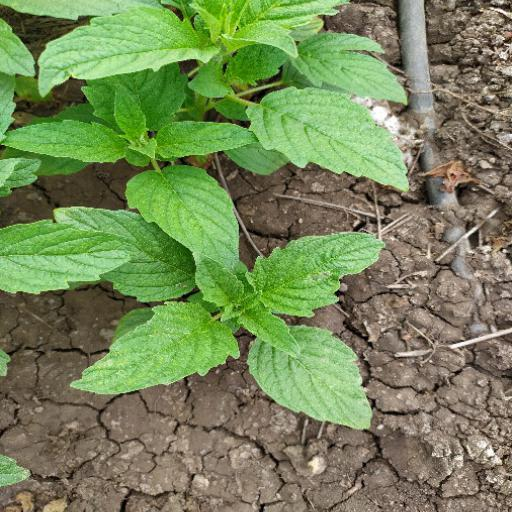crop: (11, 1, 405, 425)
